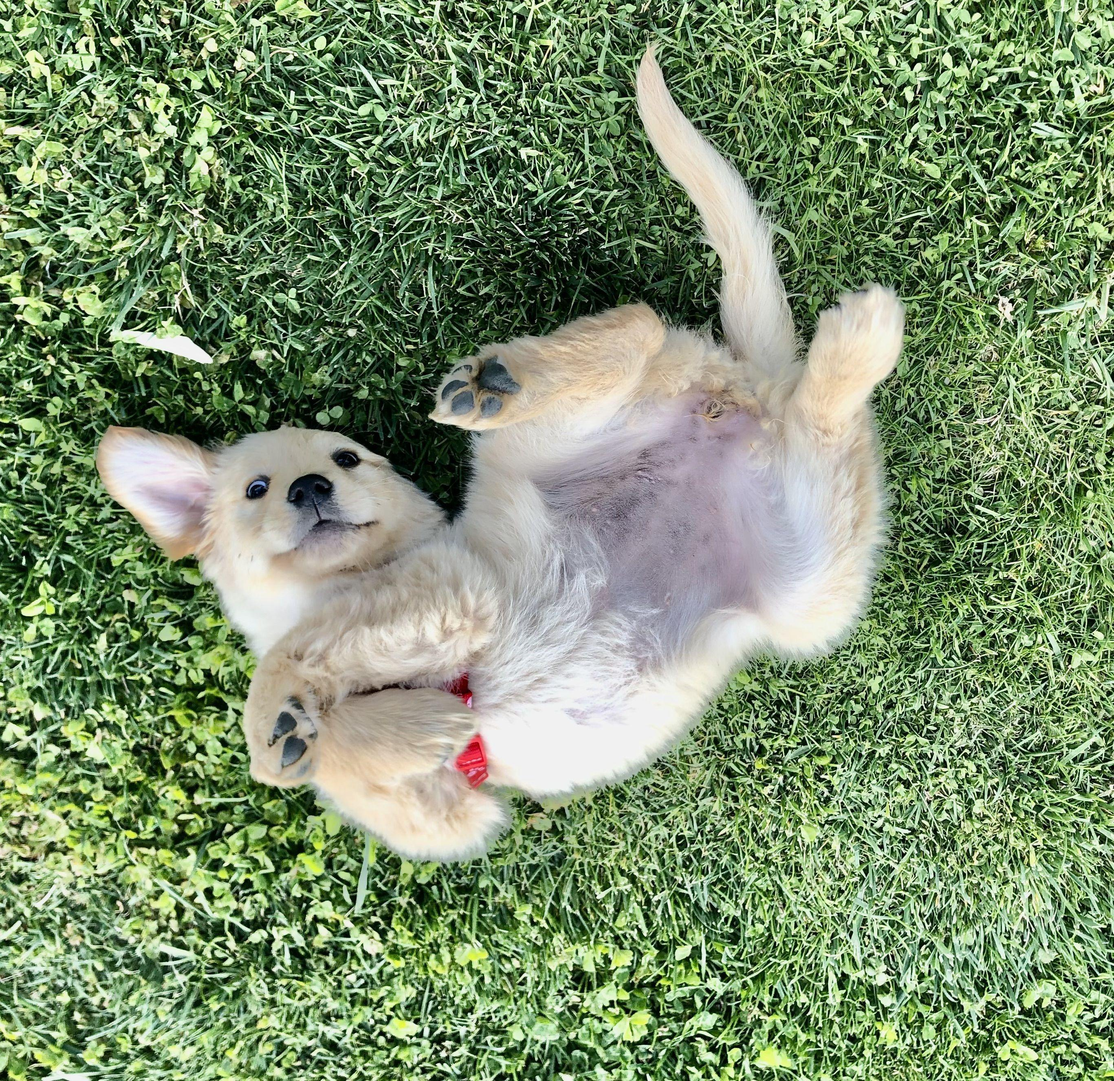puppy-dog: (96, 39, 906, 865)
